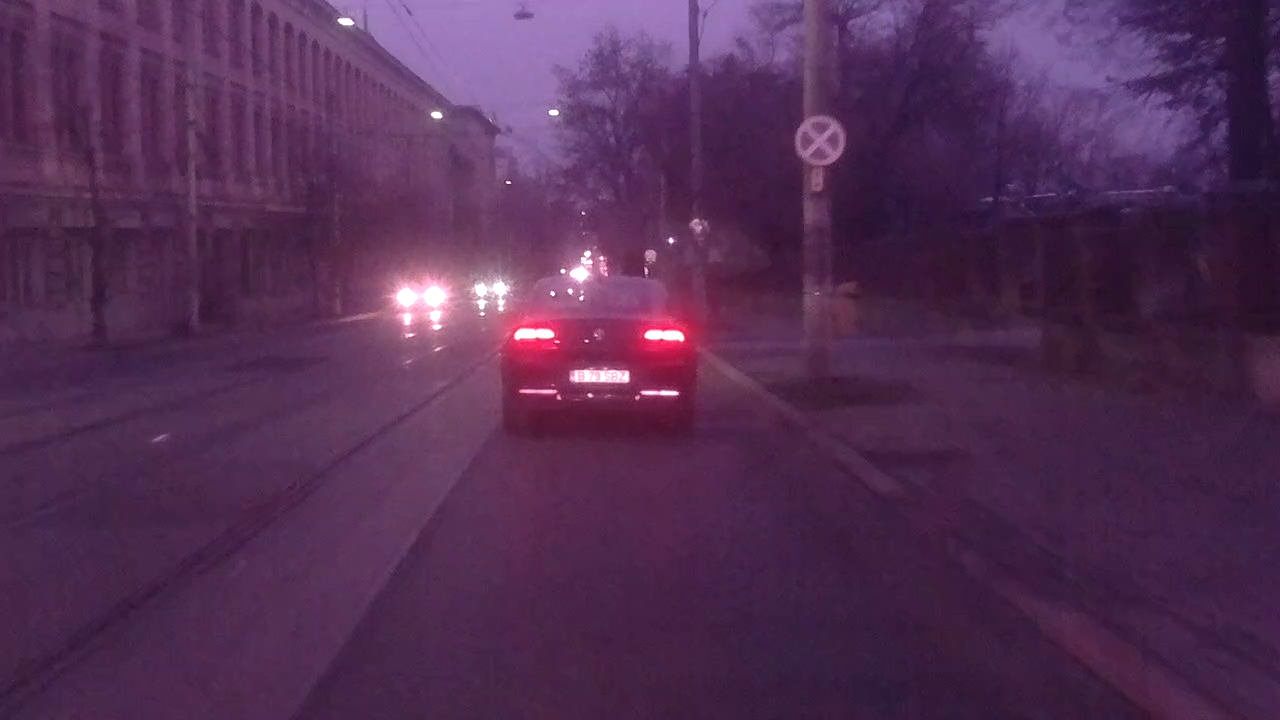license-plate: (564, 365, 632, 385)
